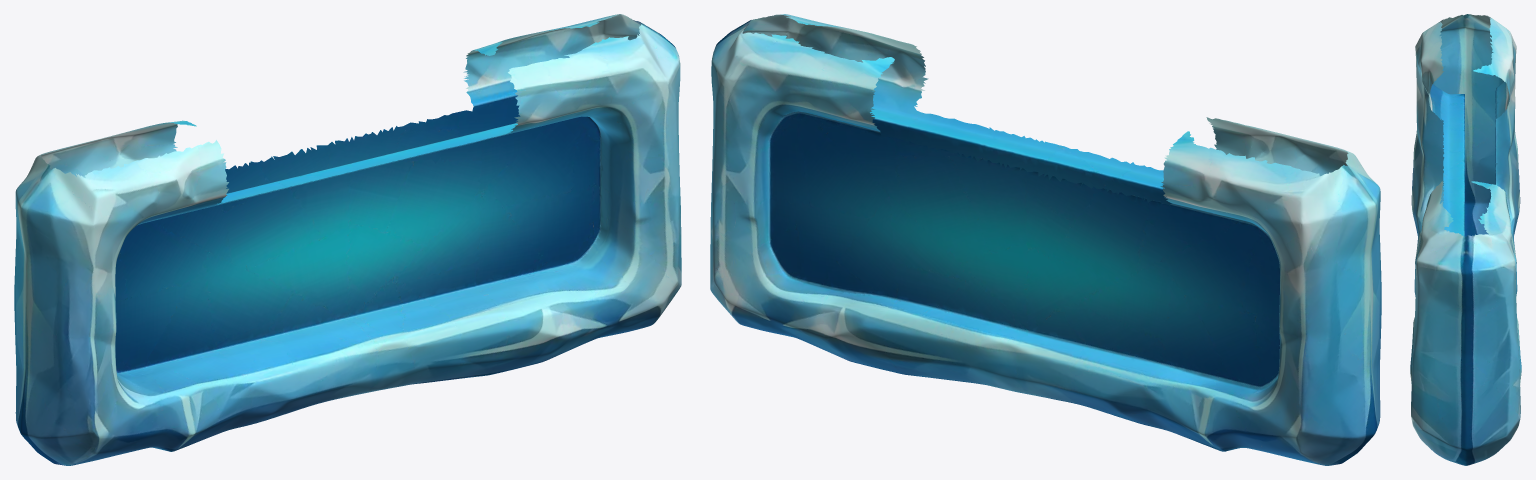
File: hud-panel.glb
3 renders of one model, left to right at view 1: azimuth 30°, elevation 25°; view 2: azimuth 150°, elevation 25°; view 3: azimuth 270°, elevation 25°, orthographic. The views are drawn at different scales.
Size of the model in its own units: 1.9 by 0.8431 by 0.3637.
Materials: 1 (1 with a texture image).
